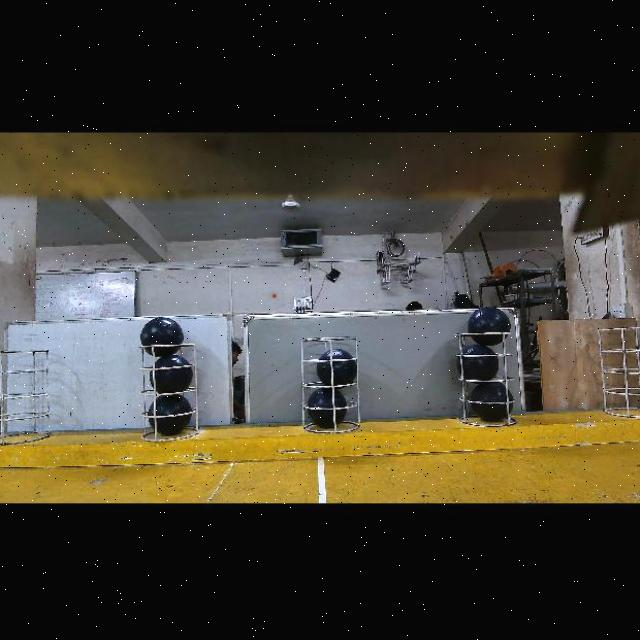P: (149, 395, 192, 436), (141, 317, 182, 358), (150, 356, 192, 394), (471, 384, 513, 422), (308, 390, 347, 429), (317, 349, 357, 386), (457, 345, 499, 380), (471, 308, 509, 346)
S: (456, 331, 518, 432), (142, 344, 198, 442), (304, 340, 358, 432), (1, 349, 52, 439), (594, 327, 640, 421)
